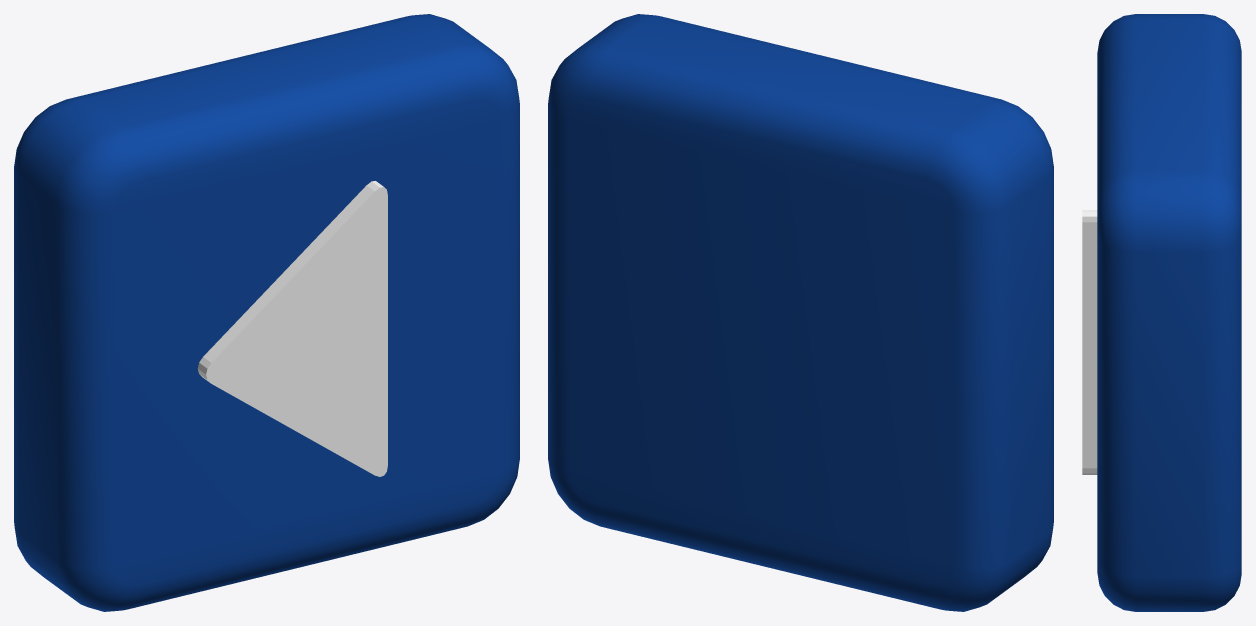
File: reverse_button.gltf
3 views of the same model, side by side, from view 1: azimuth 30°, elevation 25°; view 2: azimuth 150°, elevation 25°; view 3: azimuth 270°, elevation 25° (orthographic). The views are drawn at different scales.
Visible parts, largest first — view 1: Cube.6423; view 2: Cube.6423; view 3: Cube.6423.
Boxes of the visible parts, x1,y1,x2,y2 form: Cube.6423: (14, 14, 519, 611); Cube.6423: (548, 14, 1053, 611); Cube.6423: (1082, 14, 1241, 611).
Bounding box in the file's own units: 2.2 × 2.2 × 0.73.
1 material, 1 textured.
